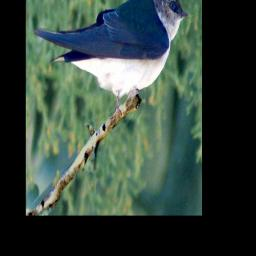Swallow: (34, 0, 191, 120)
